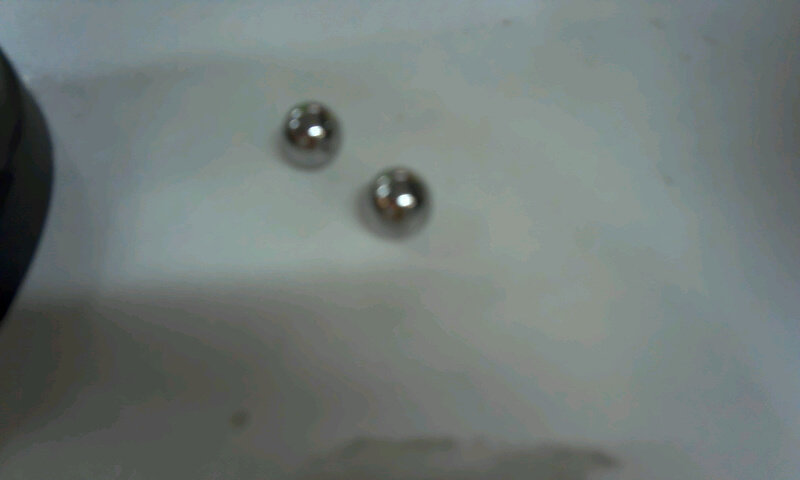steelball: (354, 161, 443, 252), (269, 92, 353, 175)
